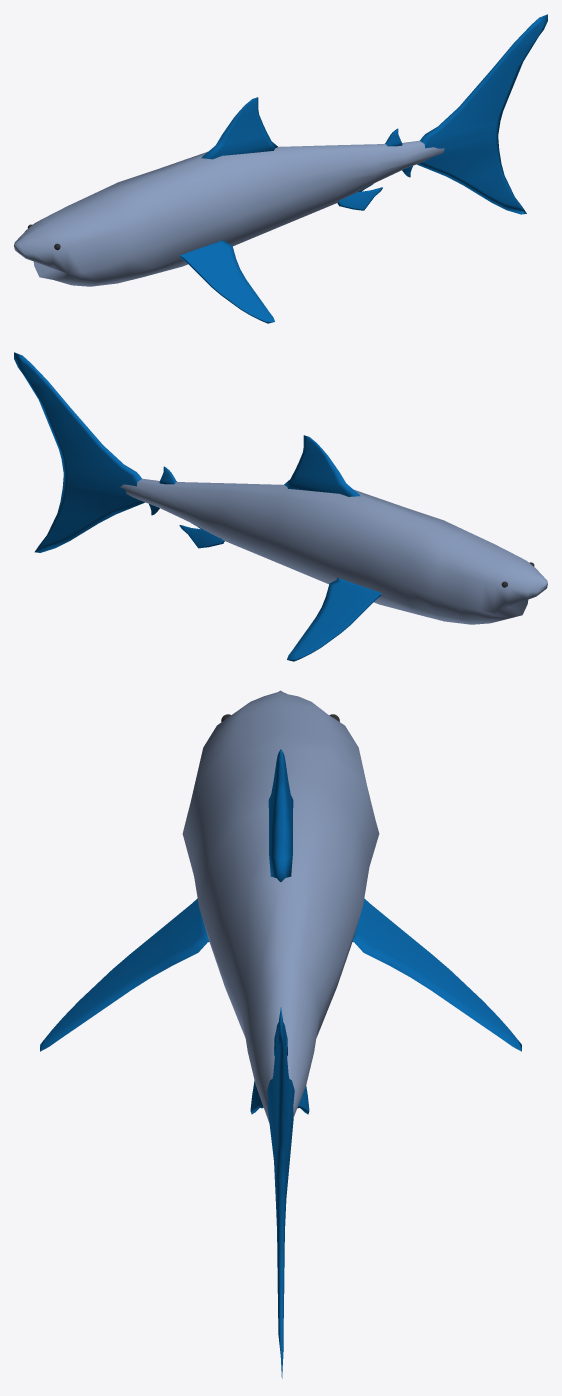
The model's file is SGW.fbx.
The picture shows the model from 3 angles, top to bottom: view 1: azimuth 30°, elevation 25°; view 2: azimuth 150°, elevation 25°; view 3: azimuth 270°, elevation 25°; orthographic projection. The views are drawn at different scales.
Parts seen in each view (by area): view 1: pCylinder1, pCube4, pCube6, pCube1, pCube5; view 2: pCylinder1, pCube4, pCube7, pCube1, pasted__pCube5; view 3: pCylinder1, pCube6, pCube7, pCube4, pCube1.
Part boxes in pixels (x1=…): pCylinder1: x1=14, y1=140, x2=444, y2=286; pCube4: x1=417, y1=14, x2=547, y2=214; pCube6: x1=180, y1=240, x2=274, y2=323; pCube1: x1=201, y1=97, x2=277, y2=159; pCube5: x1=337, y1=187, x2=382, y2=210; pCylinder1: x1=119, y1=478, x2=547, y2=624; pCube4: x1=14, y1=352, x2=144, y2=552; pCube7: x1=287, y1=578, x2=381, y2=661; pCube1: x1=284, y1=435, x2=360, y2=496; pasted__pCube5: x1=179, y1=525, x2=224, y2=548; pCylinder1: x1=182, y1=690, x2=379, y2=1123; pCube6: x1=40, y1=898, x2=209, y2=1051; pCube7: x1=352, y1=898, x2=521, y2=1051; pCube4: x1=267, y1=1007, x2=294, y2=1378; pCube1: x1=268, y1=749, x2=293, y2=881.
Size of the model in its own units: 26.91 by 9.38 by 10.52.
